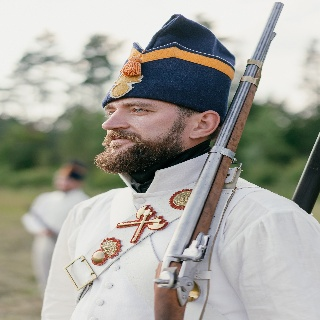rifle: (154, 3, 286, 320)
